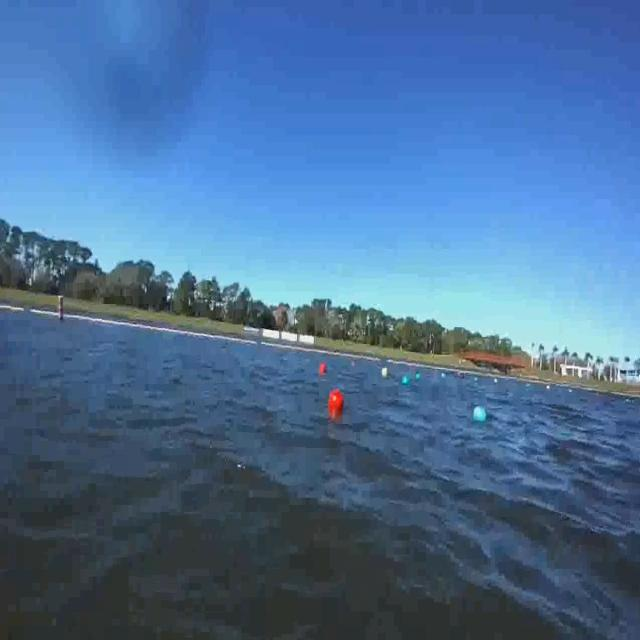green-buoy: (473, 406, 489, 426), (401, 377, 409, 387)
red-buoy: (328, 388, 344, 411)
red-column-buoy: (319, 362, 327, 376)
yellow-buoy: (382, 365, 389, 377)
